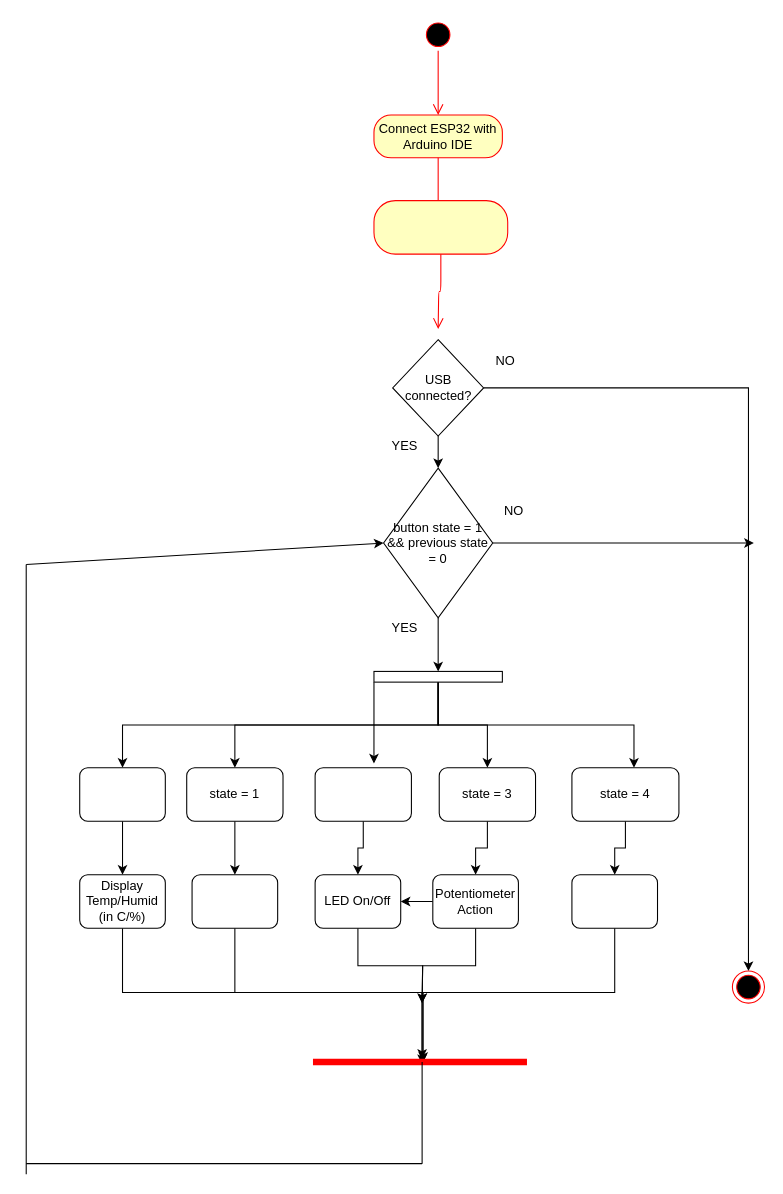
This 783x1194 diagram has some shape labels left out. The shapes that lost their labels are listed below. From the top down, each one's centre as x and y in pixels, then its label:
(440,227): Defining A,B,C of ESP32 and sensors and potentiometer
(122,794): state = 0
(362,794): state = 2
(234,901): Display Temp/Humid in (F/%)
(614,901): SLEEP
